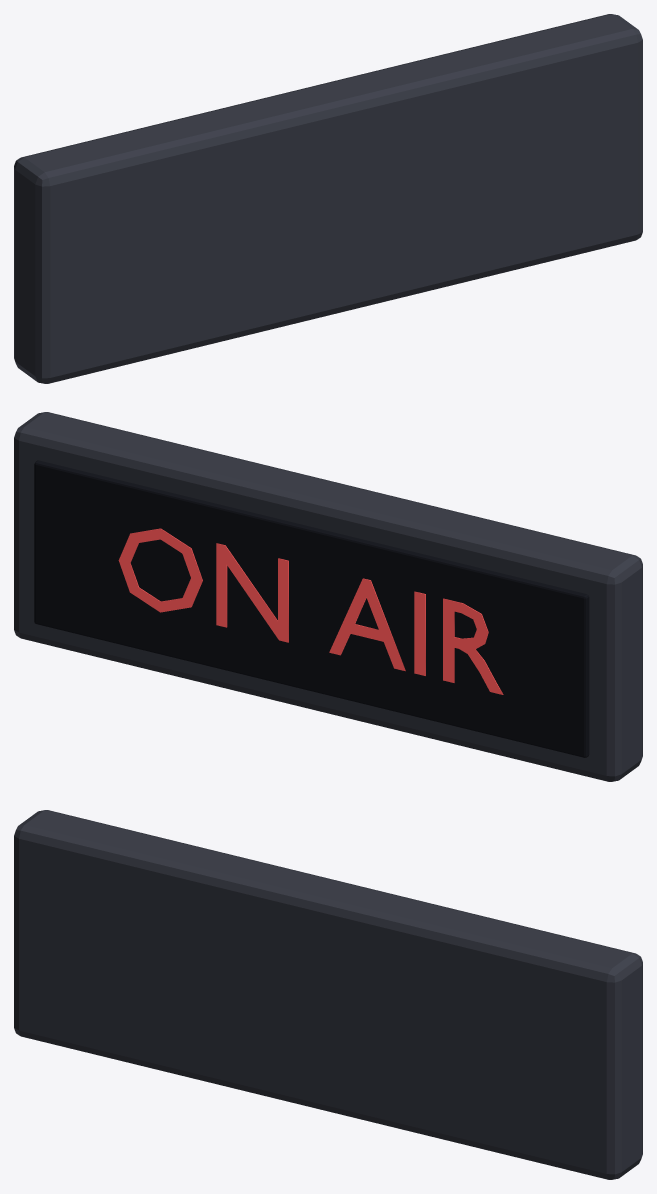
The model's file is on_air_sign.glb.
3 views of the same model, one above another, from view 1: azimuth 30°, elevation 25°; view 2: azimuth 150°, elevation 25°; view 3: azimuth 330°, elevation 25° (orthographic).
Parts seen in each view (by area): view 1: on_air_sign; view 2: on_air_sign; view 3: on_air_sign.
Part boxes in pixels (<box>): on_air_sign: <box>14,14,642,383</box>; on_air_sign: <box>14,412,642,781</box>; on_air_sign: <box>14,810,642,1179</box>.
Bounding box in the file's own units: 0.9 × 0.3 × 0.0915.
